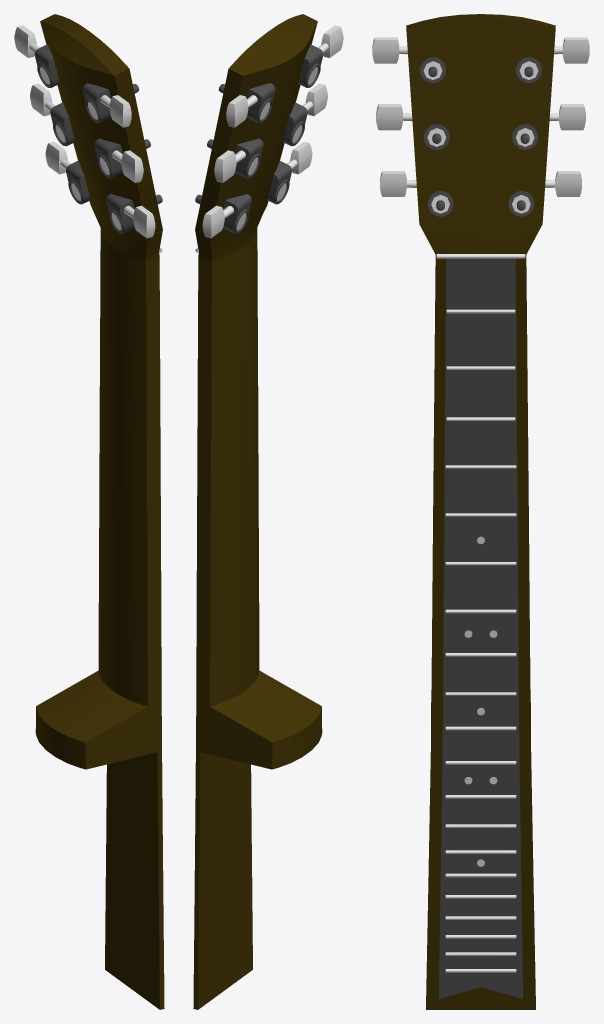
Rendered from FBX_Guitar_Neck.fbx.
The picture shows the model from 3 angles, left to right: view 1: azimuth 30°, elevation 25°; view 2: azimuth 150°, elevation 25°; view 3: azimuth 270°, elevation 25°; orthographic projection.
Visible parts, largest first — view 1: Cube.002, Cube.006, Cube.010; view 2: Cube.002, Cube.006, Cube.010; view 3: Cube.005, Cube.002, Cube.006, Cube.010.
Boxes of the visible parts, box(x1,y1,x2,y2) form: Cube.002: box(35, 14, 164, 1009); Cube.006: box(14, 25, 162, 252); Cube.010: box(34, 44, 162, 233); Cube.002: box(193, 14, 322, 1009); Cube.006: box(195, 25, 343, 252); Cube.010: box(195, 44, 323, 233); Cube.005: box(439, 258, 522, 998); Cube.002: box(406, 14, 555, 1009); Cube.006: box(372, 37, 589, 972); Cube.010: box(420, 57, 541, 216).
Size of the model in its own units: 7.97 by 81.3 by 16.51.
